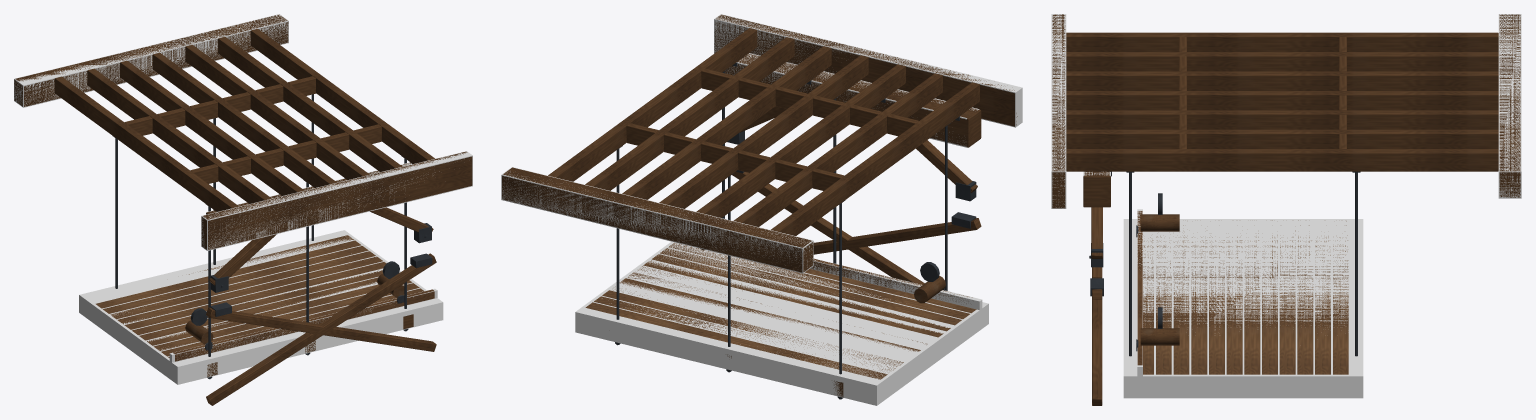
File: settlement_inn_undercroft_bay_3p25.gltf
The picture shows the model from 3 angles, left to right: view 1: azimuth 30°, elevation 25°; view 2: azimuth 150°, elevation 25°; view 3: azimuth 270°, elevation 25°; orthographic projection. The views are drawn at different scales.
Visible parts, largest first — view 1: settlement_inn_undercroft_bay_3p25_LOD0, settlement_inn_undercroft_bay_3p25_col; view 2: settlement_inn_undercroft_bay_3p25_LOD0, settlement_inn_undercroft_bay_3p25_col; view 3: settlement_inn_undercroft_bay_3p25_LOD0, settlement_inn_undercroft_bay_3p25_col.
Boxes of the visible parts, bbox=[...] form: settlement_inn_undercroft_bay_3p25_LOD0: bbox=[14, 14, 472, 405]; settlement_inn_undercroft_bay_3p25_col: bbox=[14, 14, 472, 384]; settlement_inn_undercroft_bay_3p25_LOD0: bbox=[502, 14, 1017, 399]; settlement_inn_undercroft_bay_3p25_col: bbox=[501, 14, 1022, 405]; settlement_inn_undercroft_bay_3p25_LOD0: bbox=[1052, 14, 1520, 405]; settlement_inn_undercroft_bay_3p25_col: bbox=[1051, 14, 1521, 398].
Size of what is drawn, in the model's own units: 3.25 by 2.38 by 4.1.
4 materials, 4 textured.
